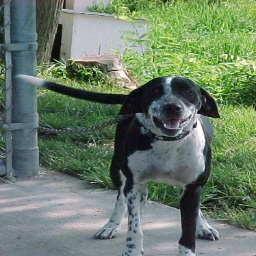dog: (98, 75, 219, 256)
